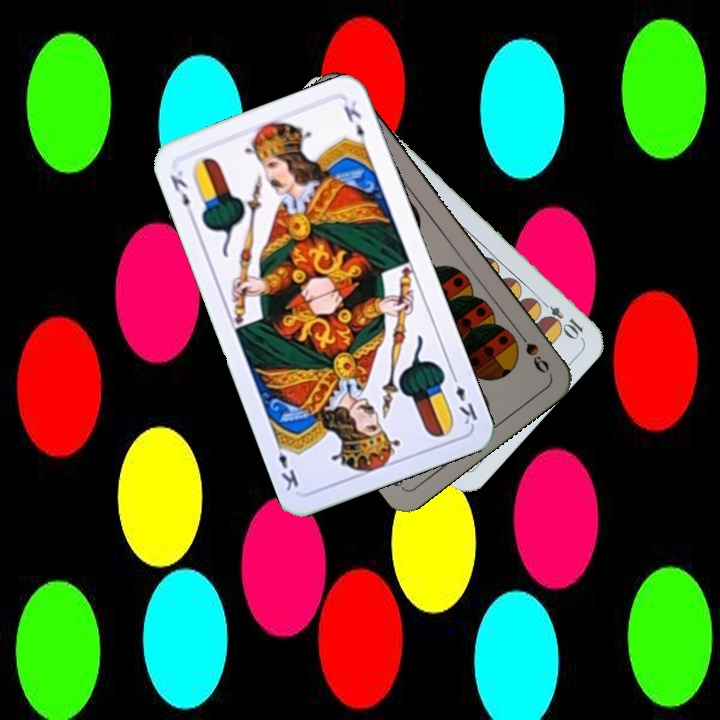E10: (534, 295, 586, 341)
EK: (447, 369, 480, 428), (166, 166, 198, 222)
S9: (511, 325, 552, 376)
